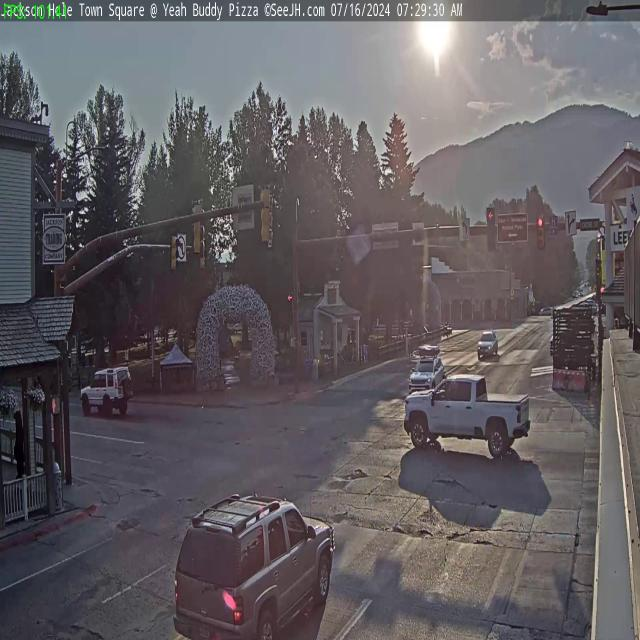pickup: (404, 376, 528, 456)
suv: (171, 486, 335, 640), (80, 366, 130, 422), (409, 350, 443, 395), (477, 331, 498, 358)
traffic light: (191, 200, 205, 252), (260, 184, 272, 241), (486, 208, 498, 252), (536, 215, 545, 250), (172, 237, 180, 273), (200, 232, 208, 268)
